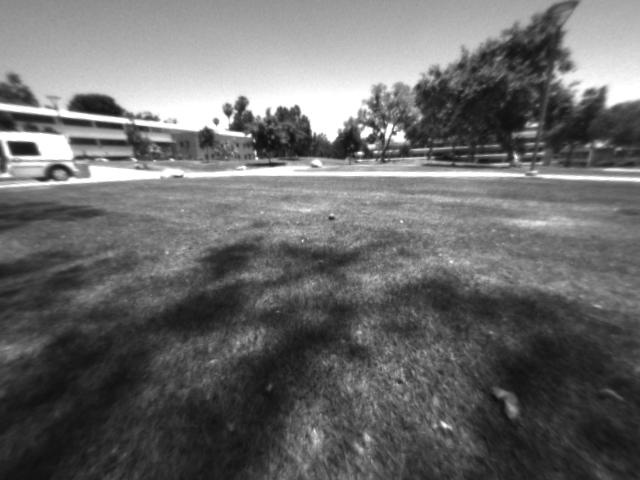dogtoy: (316, 205, 349, 227)
